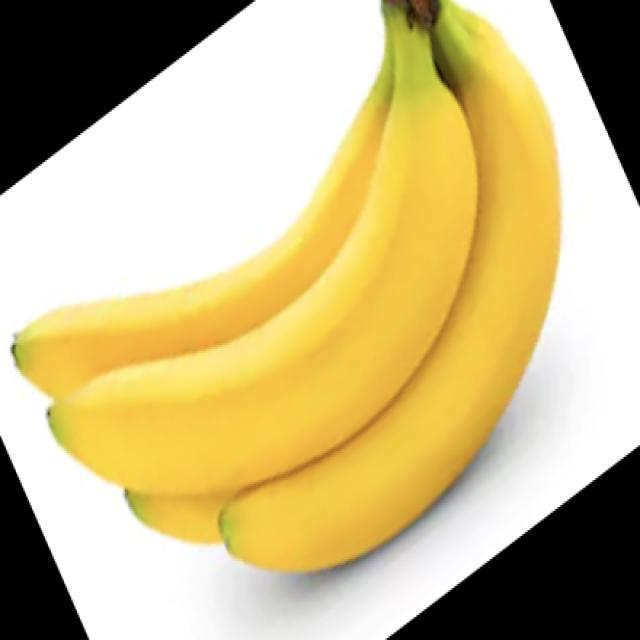Banana: (10, 0, 562, 574)
